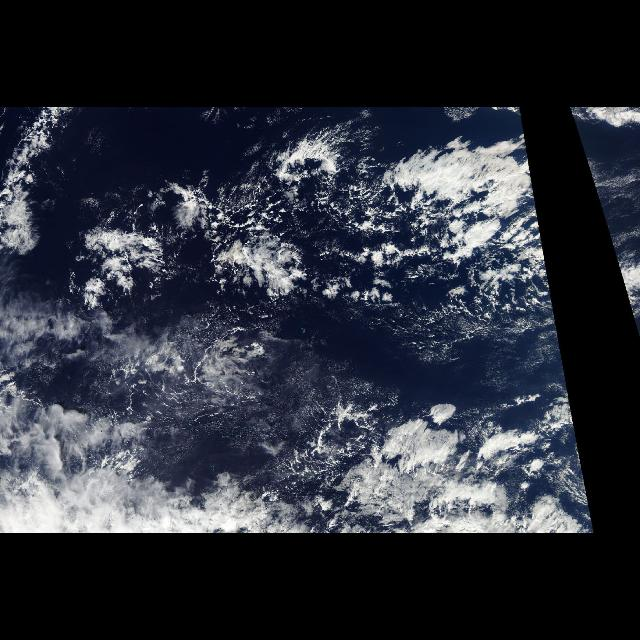Fish: (0, 107, 552, 331)
Gravel: (289, 171, 556, 321)
Sugar: (123, 324, 330, 466), (368, 314, 568, 386)
